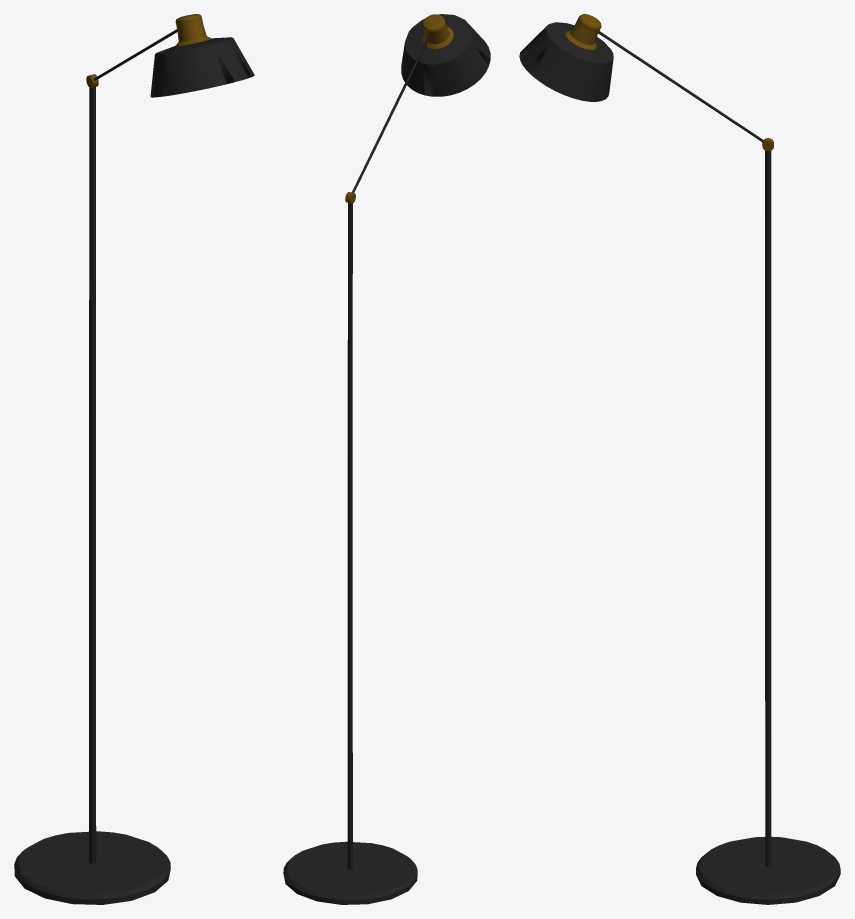
3 renders of one model, left to right at view 1: azimuth 30°, elevation 25°; view 2: azimuth 150°, elevation 25°; view 3: azimuth 270°, elevation 25°, orthographic. The views are drawn at different scales.
Parts seen in each view (by area): view 1: lamp; view 2: lamp; view 3: lamp.
Boxes of the visible parts, x1,y1,x2,y2 form: lamp: [14, 14, 254, 904]; lamp: [283, 14, 490, 904]; lamp: [519, 14, 840, 904].
Bounding box in the file's own units: 0.2477 × 1.62 × 0.5498.
